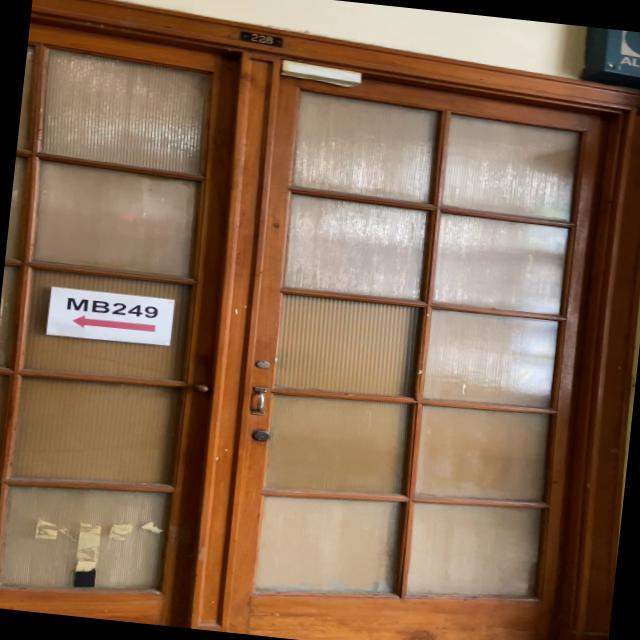room228: (238, 29, 286, 49)
